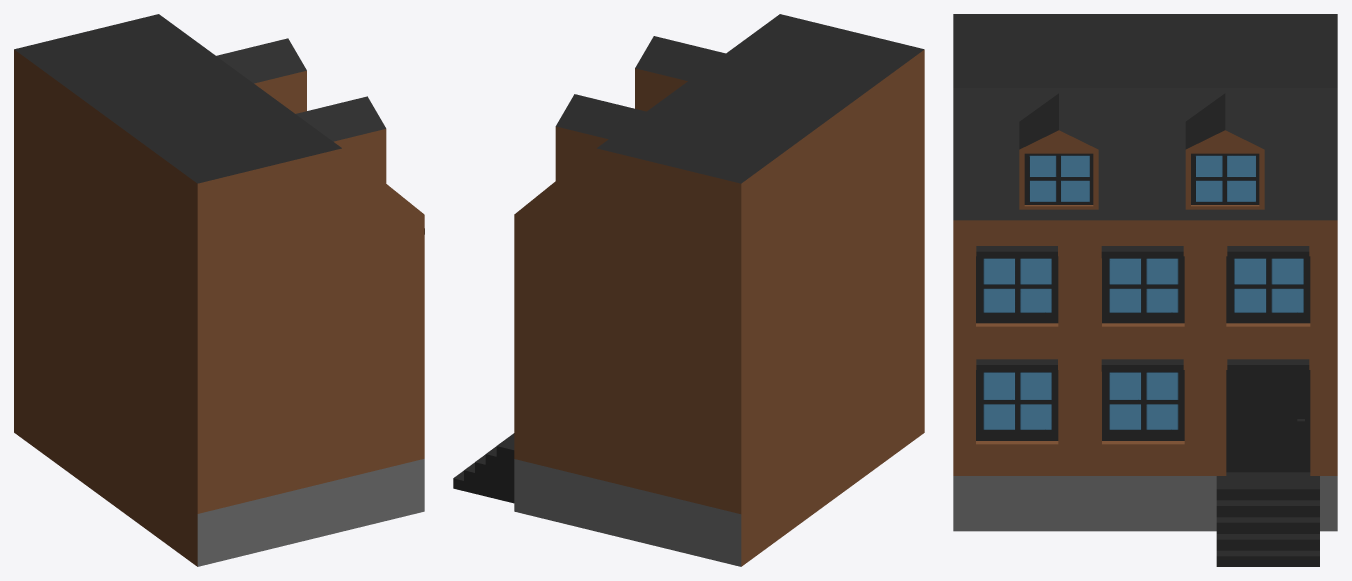
The model's file is NormalSquereBrown.obj.
3 renders of one model, left to right at view 1: azimuth 30°, elevation 25°; view 2: azimuth 150°, elevation 25°; view 3: azimuth 270°, elevation 25°, orthographic. The views are drawn at different scales.
Visible parts, largest first — view 1: ZwyklayKwadratowyBrazowy; view 2: ZwyklayKwadratowyBrazowy; view 3: ZwyklayKwadratowyBrazowy.
Boxes of the visible parts, x1=… form: ZwyklayKwadratowyBrazowy: x1=14, y1=14, x2=424, y2=566; ZwyklayKwadratowyBrazowy: x1=453, y1=14, x2=924, y2=566; ZwyklayKwadratowyBrazowy: x1=953, y1=14, x2=1337, y2=566.
Size of the model in its own units: 6.53 by 8.07 by 7.
